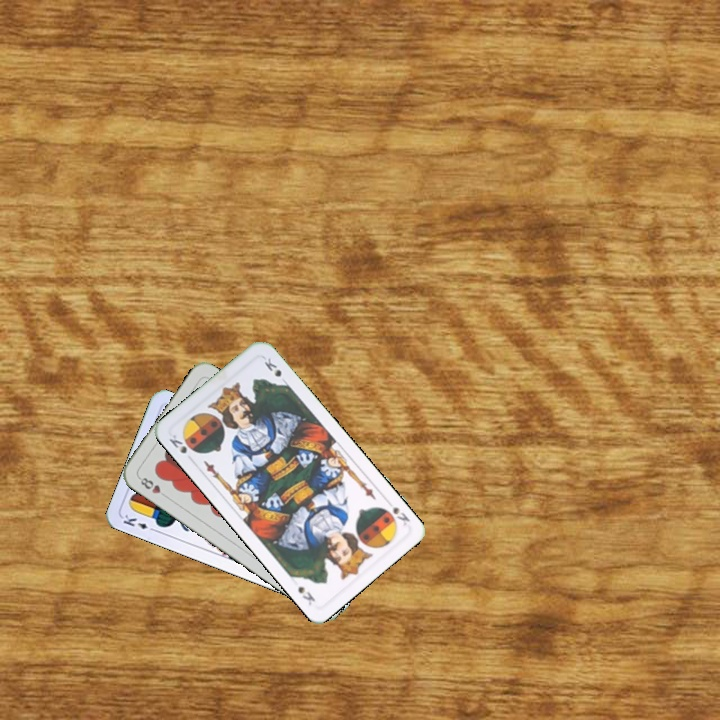EK: (119, 511, 159, 534)
H8: (135, 473, 171, 501)
SK: (378, 496, 413, 529), (165, 430, 190, 456)
